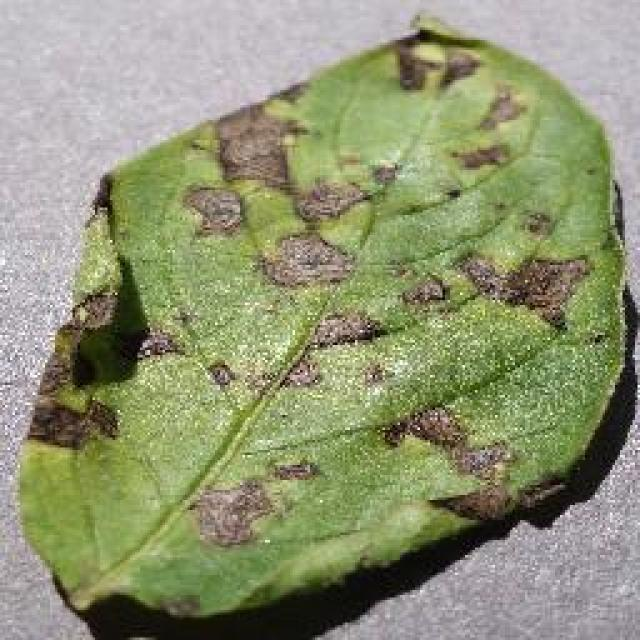early_blight: (10, 12, 632, 628)
